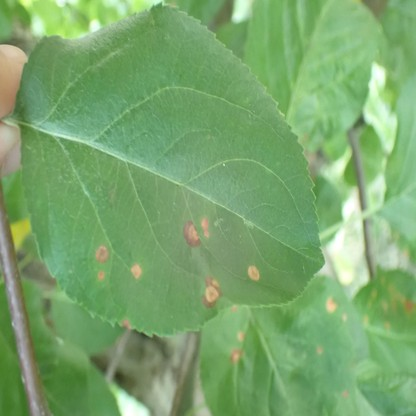frogeye_leaf_spot: (203, 277, 223, 308), (183, 220, 201, 248), (95, 244, 109, 263), (247, 265, 261, 282), (130, 262, 143, 280), (327, 297, 338, 314), (201, 216, 209, 238), (231, 347, 243, 361), (122, 317, 130, 329), (98, 272, 103, 278)
